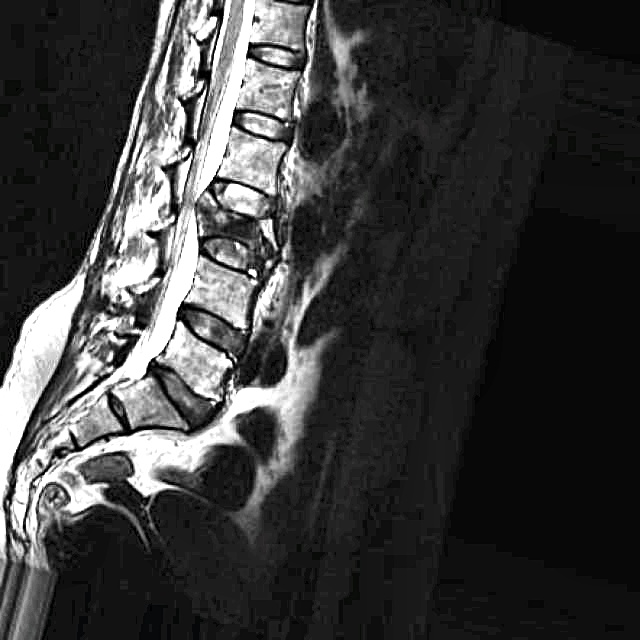Comminuted: (186, 163, 294, 282)
